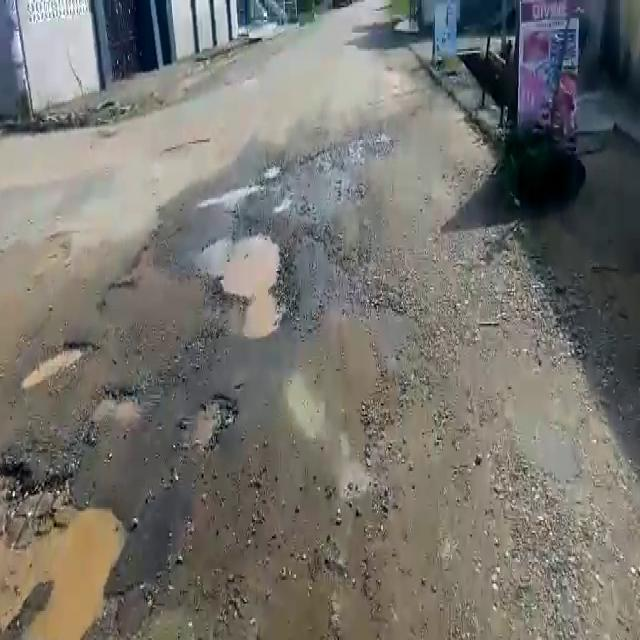Pothole: (0, 461, 139, 640), (188, 234, 297, 338), (23, 336, 99, 388), (182, 389, 234, 457), (203, 178, 263, 207), (161, 135, 212, 157)
